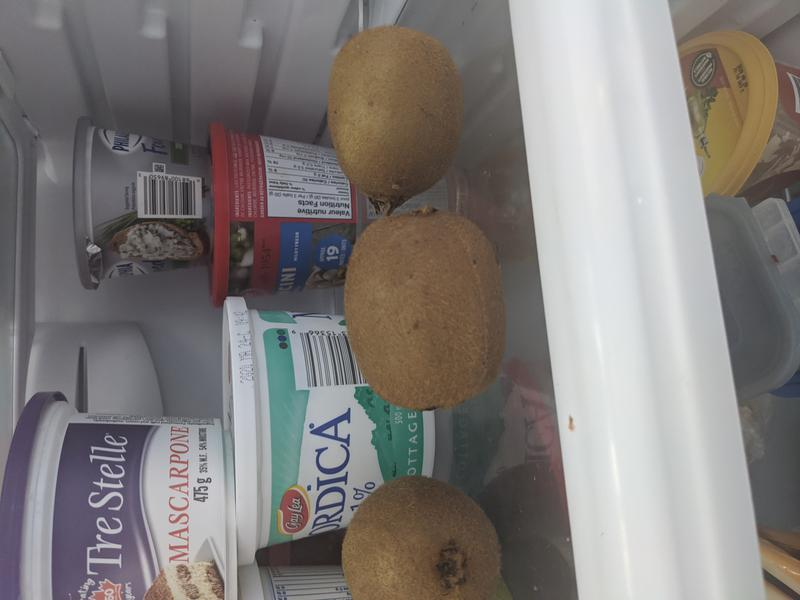kiwi: (344, 209, 508, 411), (325, 24, 463, 200), (340, 477, 502, 600)
